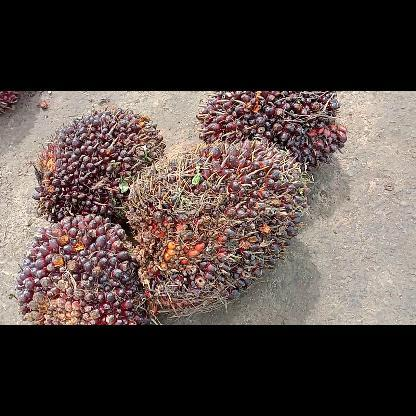Kurang masak: (127, 136, 310, 314), (31, 106, 165, 222), (16, 216, 150, 324), (196, 91, 346, 171)
